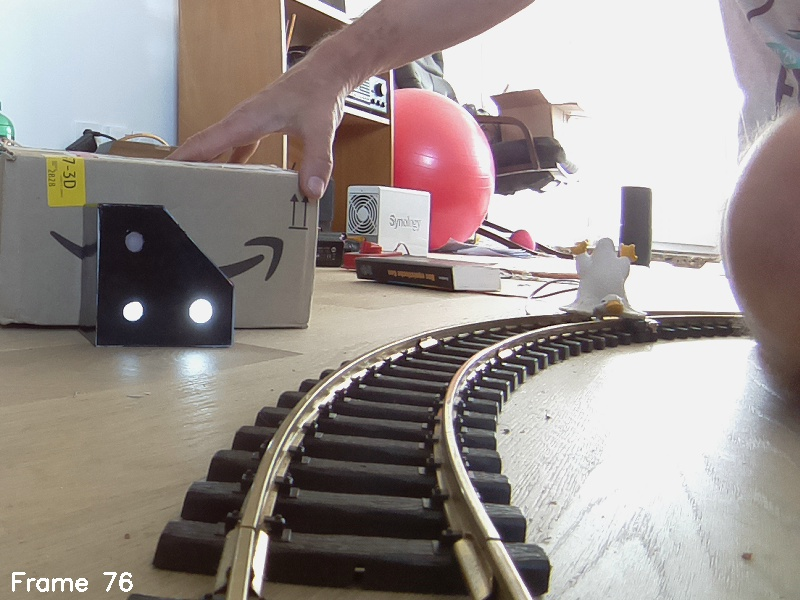Halt: (83, 203, 235, 344)
